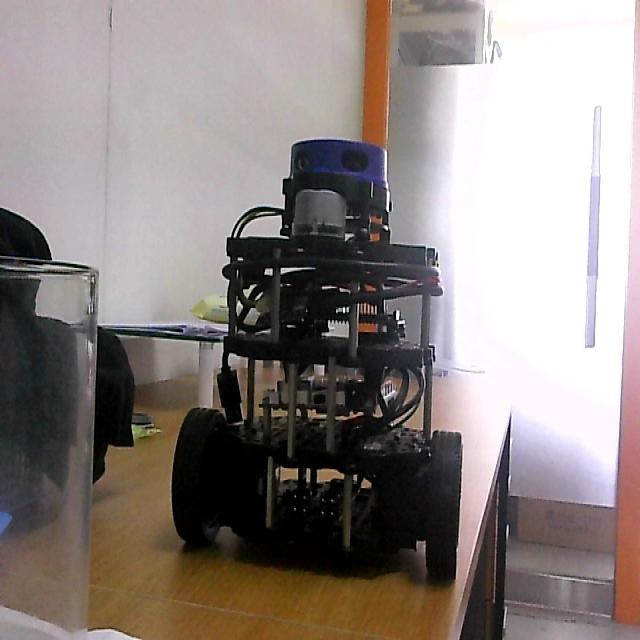turtle: (168, 132, 466, 587)
